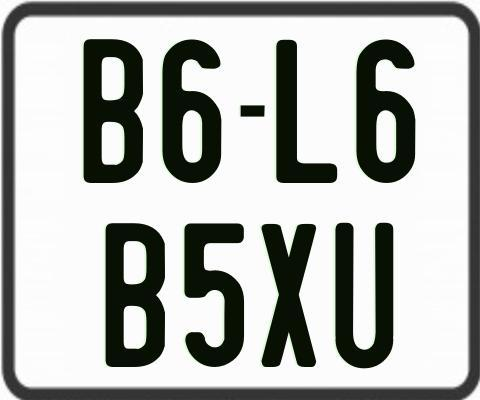5: (184, 222, 246, 371)
6: (354, 38, 418, 185), (161, 37, 222, 180)
B: (105, 222, 170, 371), (83, 36, 142, 183)
L: (275, 39, 341, 186)
U: (334, 220, 397, 367)
X: (259, 222, 313, 368)
